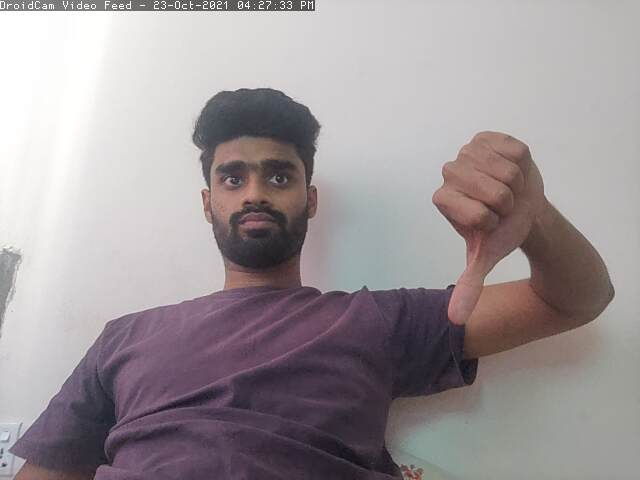ThumbsDown: (432, 130, 546, 326)
